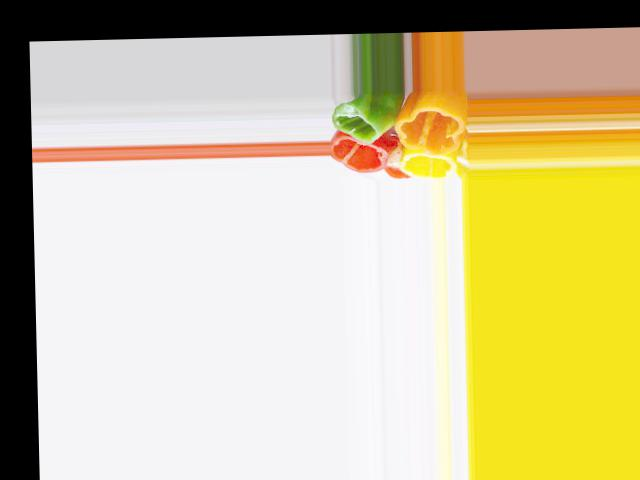bell_pepper: (332, 137, 389, 175)
